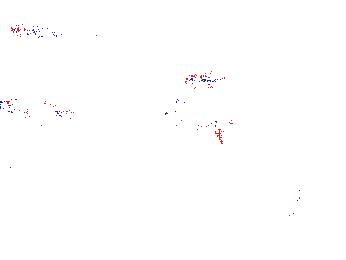red belly glassfish: (186, 70, 238, 89), (12, 24, 55, 39)
redtail glassfish: (176, 95, 232, 148), (5, 98, 73, 127), (285, 180, 307, 201)
